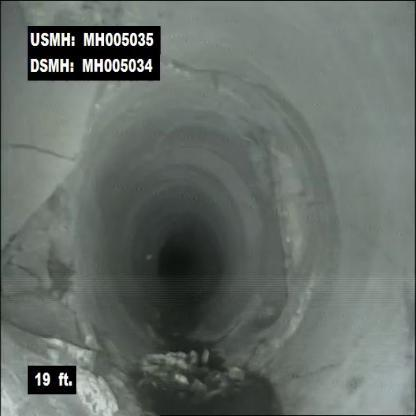obsc: (123, 336, 257, 404)
